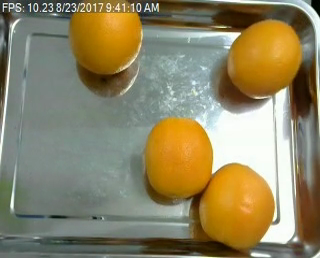Orange: (198, 162, 276, 252), (225, 18, 302, 99), (143, 117, 212, 198), (69, 3, 143, 74)
